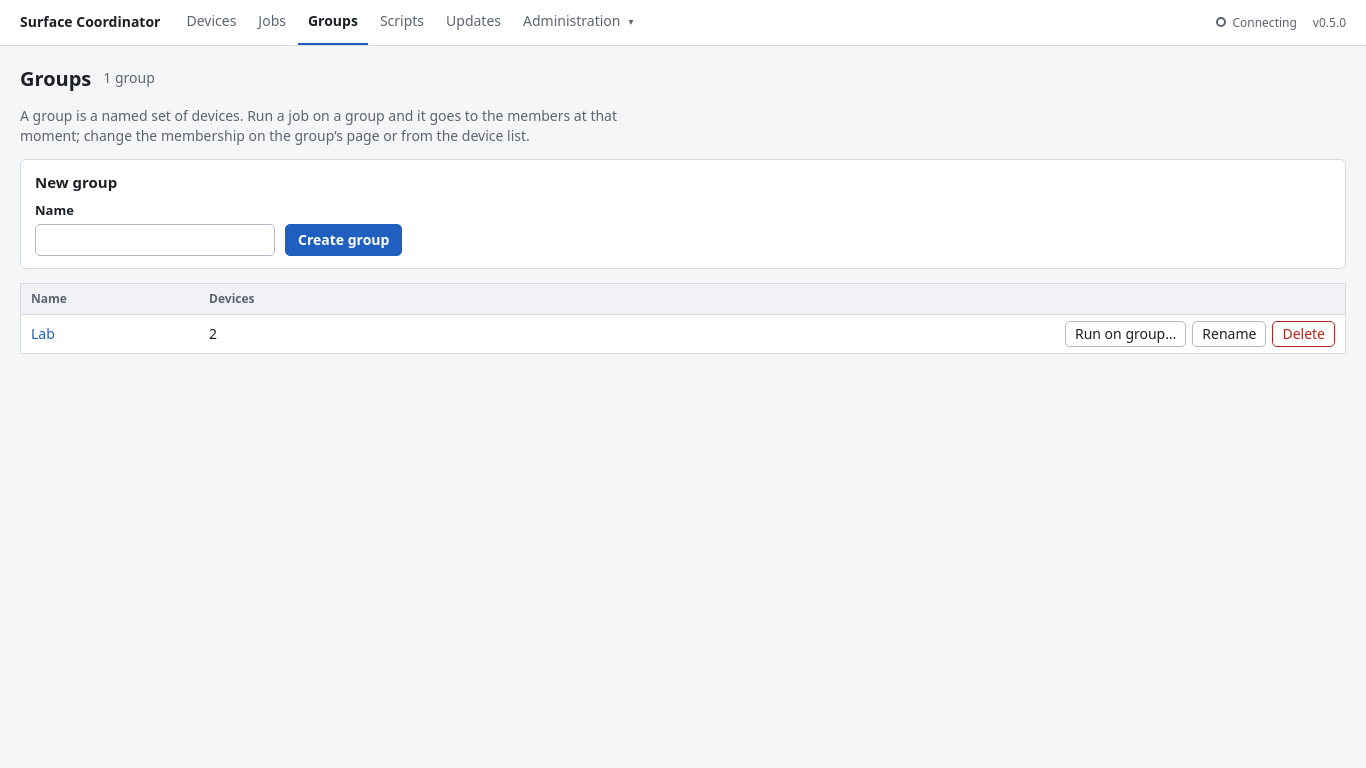
Test: Groups page › asks before deleting a group, and deletes it when confirmed
Click the button with aria-label "Delete Lab".
click(1304, 334)  # box [1272,321,1335,347]
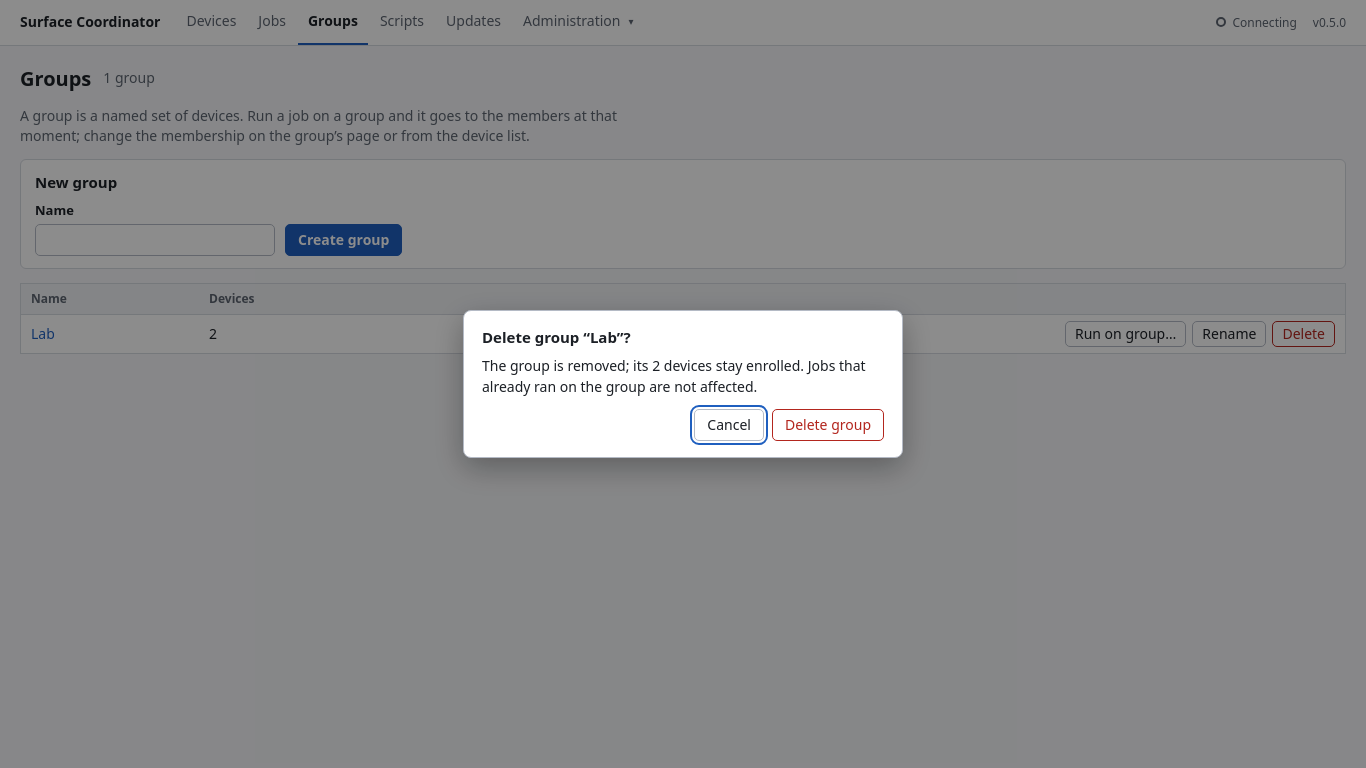
Now the text "its 2 devices stay enrolled" is shown, box [482,356,884,397]
Click the button "Cancel".
click(729, 425)  # box [694,409,764,441]
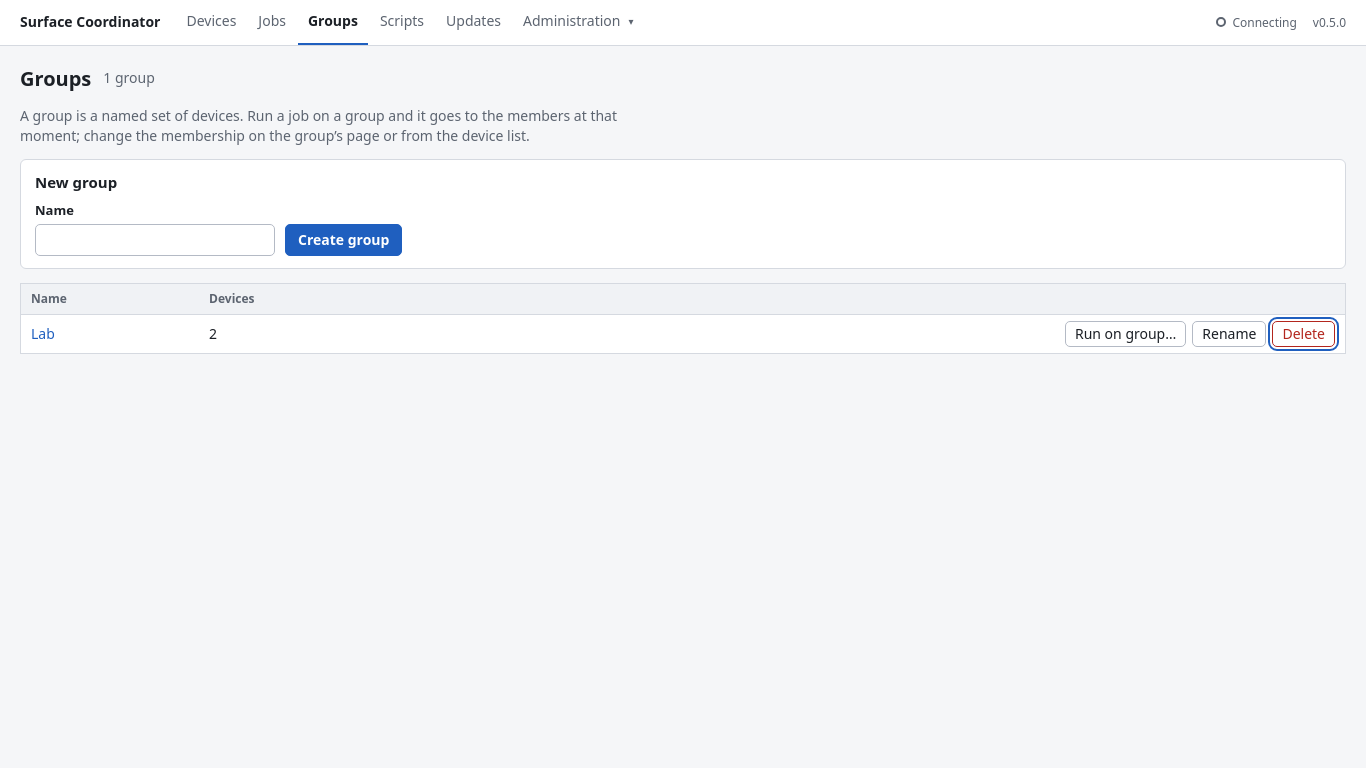
Click the button with aria-label "Delete Lab".
click(1304, 334)  # box [1272,321,1335,347]
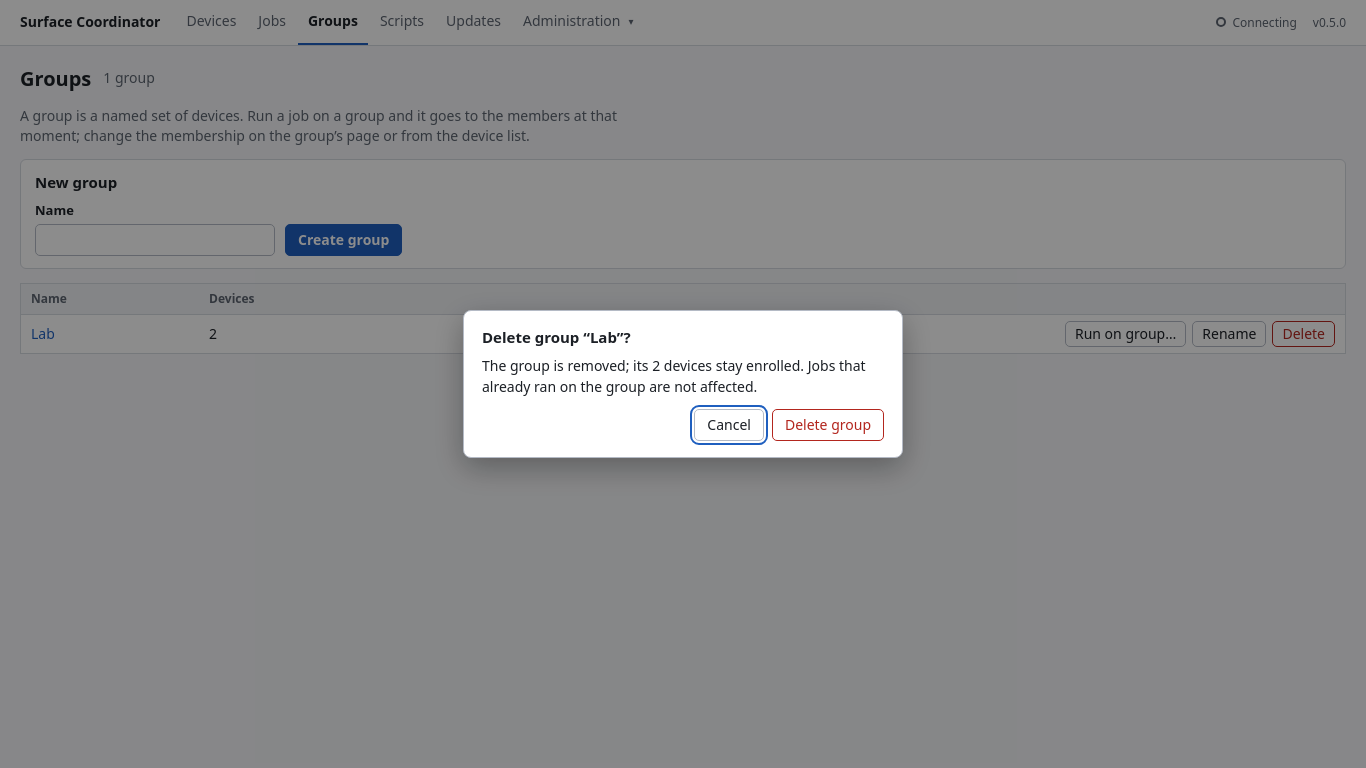
Click the button "Delete group".
click(828, 425)  # box [772,409,884,441]
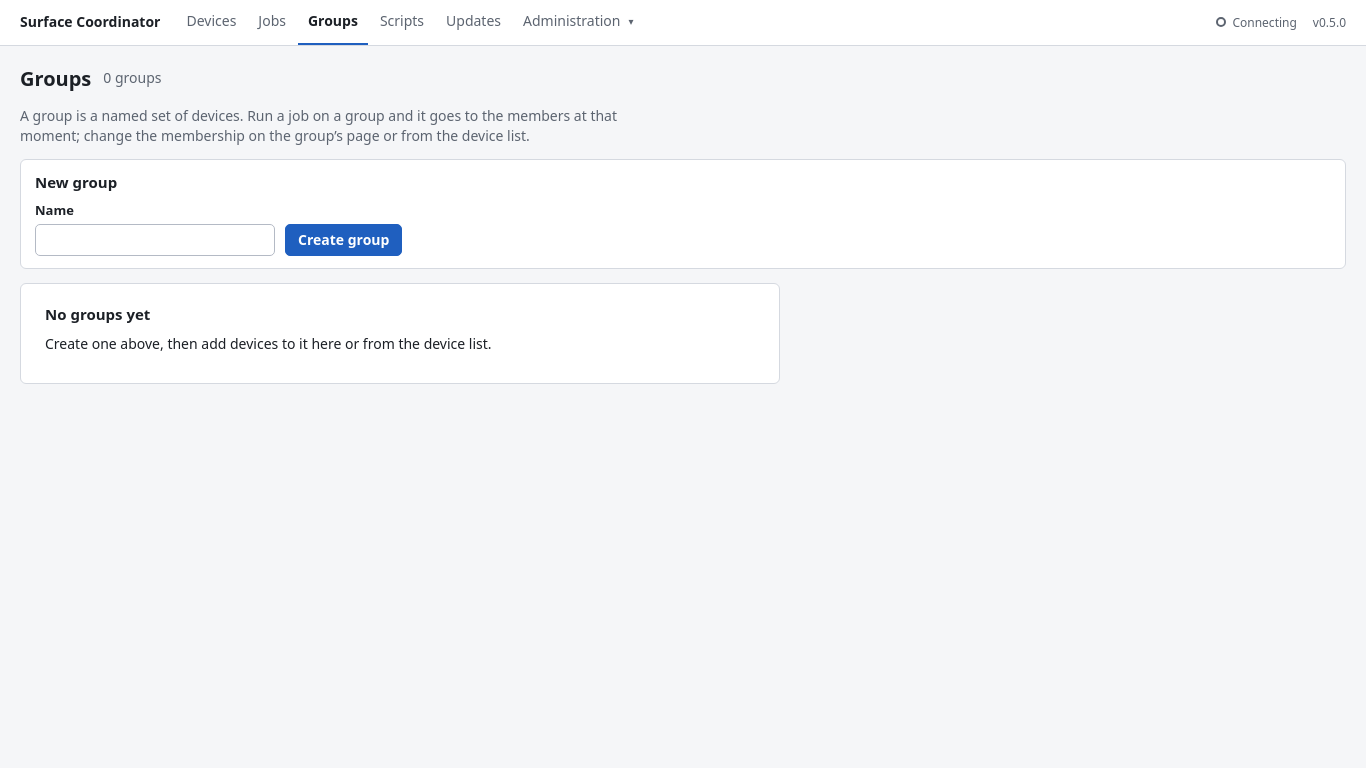
Now the heading "No groups yet" is shown, box [45,304,150,324]
